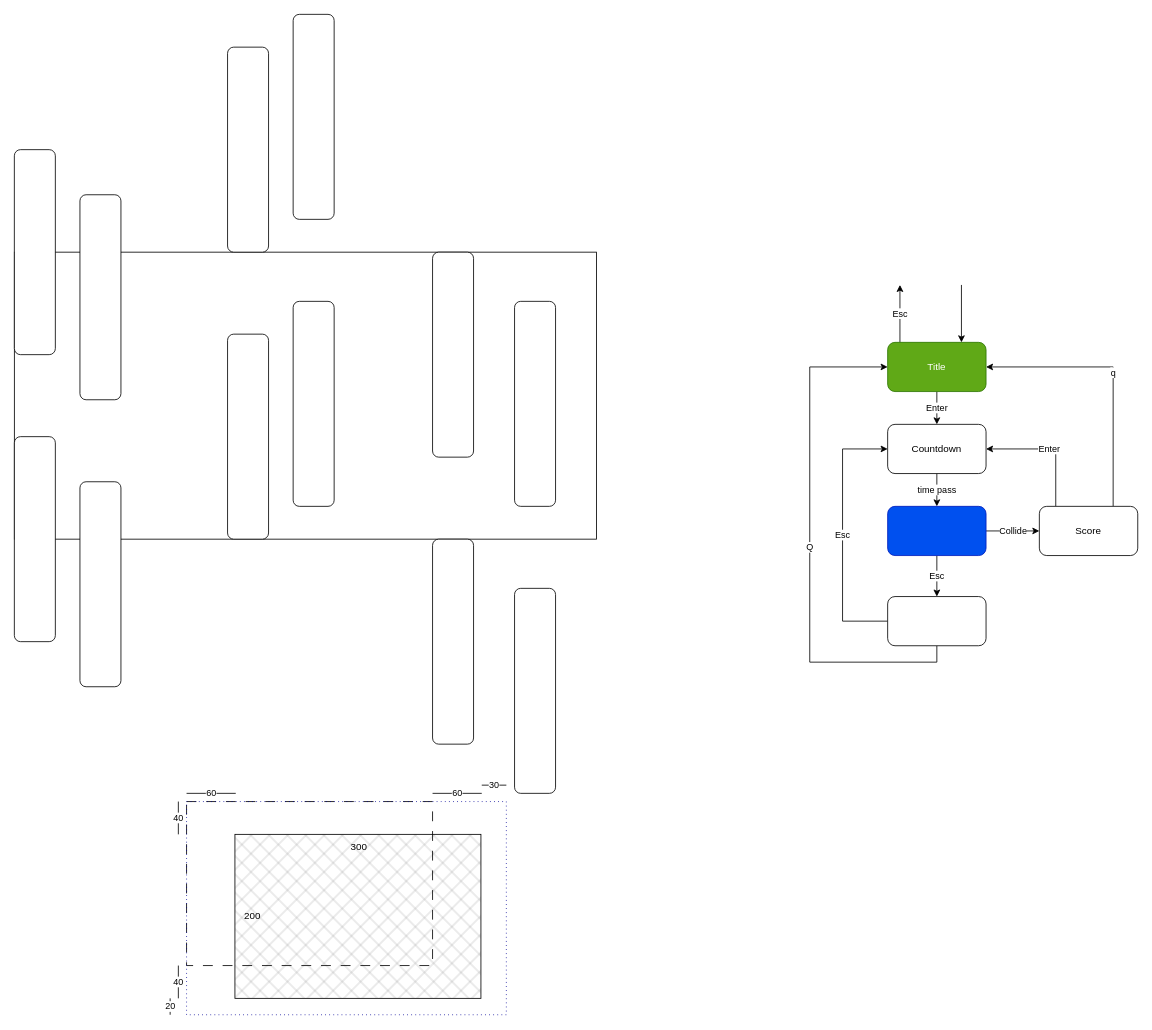
Some shapes in this 1152 by 1030 pixel diagram are drawn without their labels. The shapes that lost their labels are listed below. From the top down, each one's box as (x1, y1, x2, y2) in pixels, then its label:
(887, 506, 986, 556): Play
(887, 596, 986, 646): Pause
